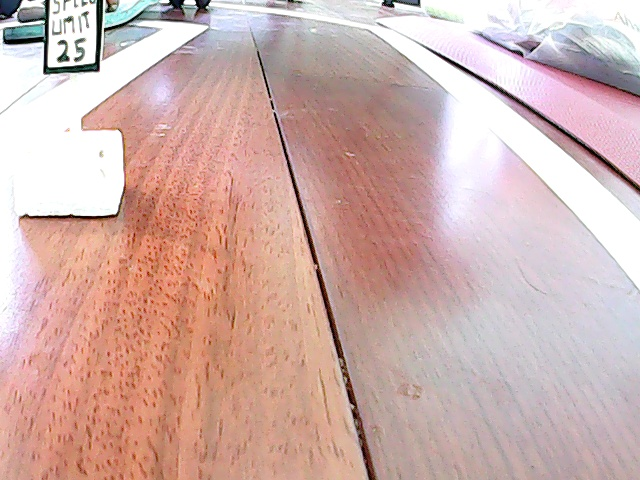speed_25: (28, 1, 137, 213)
